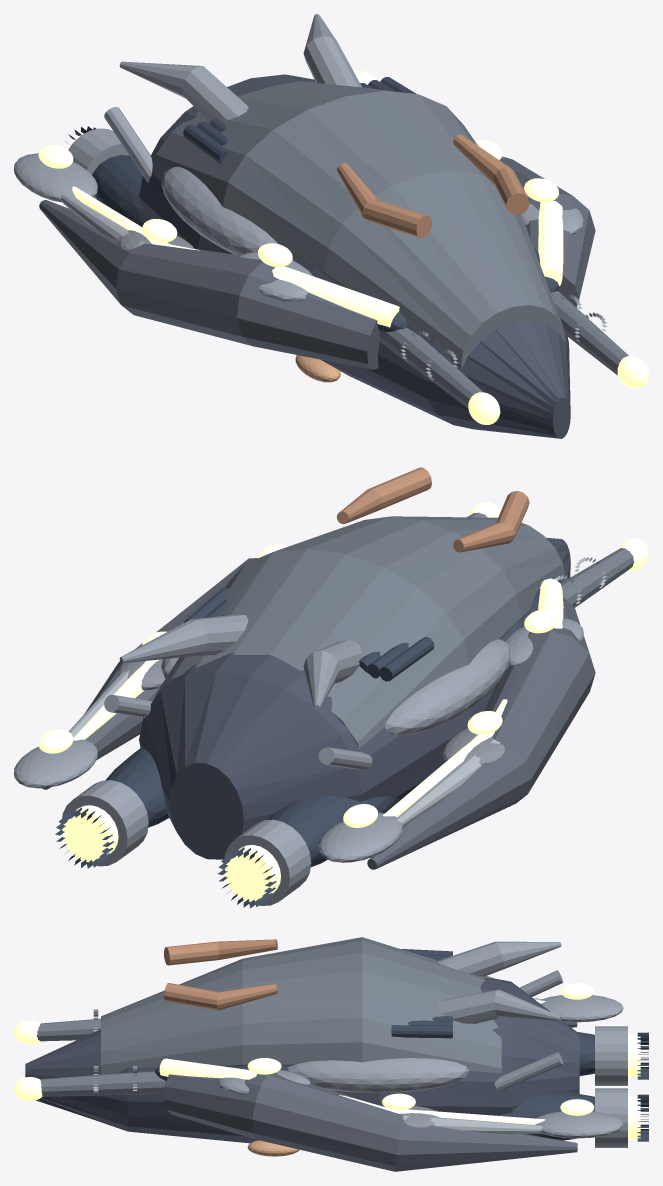
Rendered from npc_streuner.glb.
3 renders of one model, top to bottom at view 1: azimuth 30°, elevation 25°; view 2: azimuth 150°, elevation 25°; view 3: azimuth 270°, elevation 25°, orthographic. The views are drawn at different scales.
Visible parts, largest first — view 1: upper_armor_scar, armored_scythe_-1, keel_pressure_hull, heavy_shield_pad_-1, predator_dorsal_fang_-1, energy_etched_rail_-1, armored_scythe_1, long_plasma_cannon_-1, engine_armor_-1, pirate_crest_-1, scythe_plate_-1_2, predator_dorsal_fang_1 (+16 smaller); view 2: upper_armor_scar, keel_pressure_hull, armored_scythe_-1, heavy_shield_pad_-1, predator_dorsal_fang_1, exhaust_coil_1, exhaust_coil_-1, engine_armor_-1, armored_scythe_1, scythe_plate_1_2, scythe_plate_-1_2, predator_dorsal_fang_-1 (+22 smaller); view 3: upper_armor_scar, armored_scythe_1, keel_pressure_hull, heavy_shield_pad_1, predator_dorsal_fang_1, long_plasma_cannon_1, predator_dorsal_fang_-1, energy_etched_rail_1, exhaust_coil_-1, pirate_crest_-1, pirate_crest_1, scythe_plate_1_2 (+22 smaller).
Part boxes in pixels (box(x1,y1,x2,y2)): upper_armor_scar: box(154, 81, 565, 368); armored_scythe_-1: box(39, 200, 379, 369); keel_pressure_hull: box(139, 74, 570, 438); heavy_shield_pad_-1: box(161, 166, 277, 255); predator_dorsal_fang_-1: box(119, 61, 248, 121); energy_etched_rail_-1: box(72, 186, 399, 327); armored_scythe_1: box(499, 157, 595, 307); long_plasma_cannon_-1: box(379, 328, 483, 408); engine_armor_-1: box(92, 155, 150, 227); pirate_crest_-1: box(336, 163, 431, 238); scythe_plate_-1_2: box(14, 153, 97, 202); predator_dorsal_fang_1: box(303, 14, 361, 87); upper_armor_scar: box(154, 516, 565, 748); keel_pressure_hull: box(139, 537, 570, 859); armored_scythe_-1: box(367, 597, 595, 869); heavy_shield_pad_-1: box(385, 639, 510, 735); predator_dorsal_fang_1: box(119, 614, 248, 663); exhaust_coil_1: box(62, 780, 148, 866); exhaust_coil_-1: box(224, 819, 311, 905); engine_armor_-1: box(268, 796, 399, 867); armored_scythe_1: box(42, 558, 257, 789); scythe_plate_1_2: box(14, 739, 97, 788); scythe_plate_-1_2: box(318, 812, 402, 862); predator_dorsal_fang_-1: box(303, 640, 362, 710); upper_armor_scar: box(101, 937, 501, 1074); armored_scythe_1: box(163, 1073, 577, 1171); keel_pressure_hull: box(25, 978, 579, 1143); heavy_shield_pad_1: box(287, 1058, 468, 1092); predator_dorsal_fang_1: box(437, 989, 561, 1023); long_plasma_cannon_1: box(39, 1071, 166, 1096); predator_dorsal_fang_-1: box(436, 941, 561, 976); energy_etched_rail_1: box(159, 1058, 545, 1124); exhaust_coil_-1: box(595, 1026, 627, 1085); pirate_crest_-1: box(164, 939, 277, 965); pirate_crest_1: box(164, 983, 277, 1010); scythe_plate_1_2: box(535, 1111, 623, 1138).
Size of the model in its own units: 1.8 by 0.9744 by 3.06.
